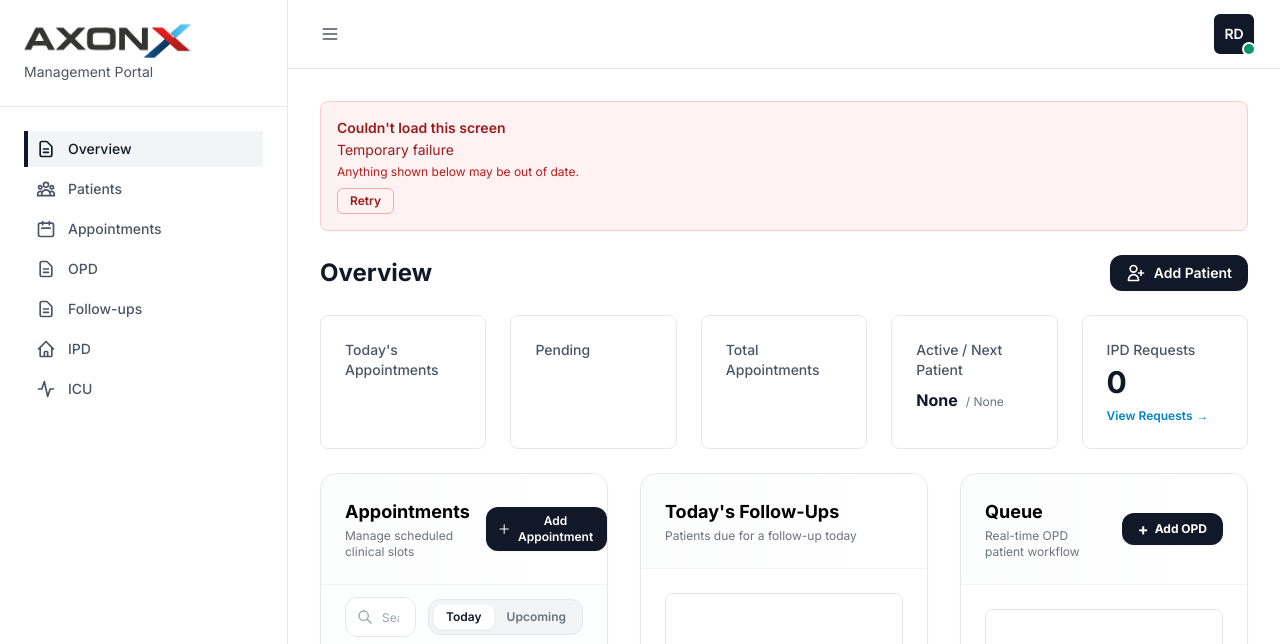
Test: ReceptionistDashboard — a failed load is not an empty desk › clears the error once the retry succeeds
Expected: the message is shown, [320,101,1248,231]
Click the button "Retry". click: point(366, 201)
box: [337,188,394,214]
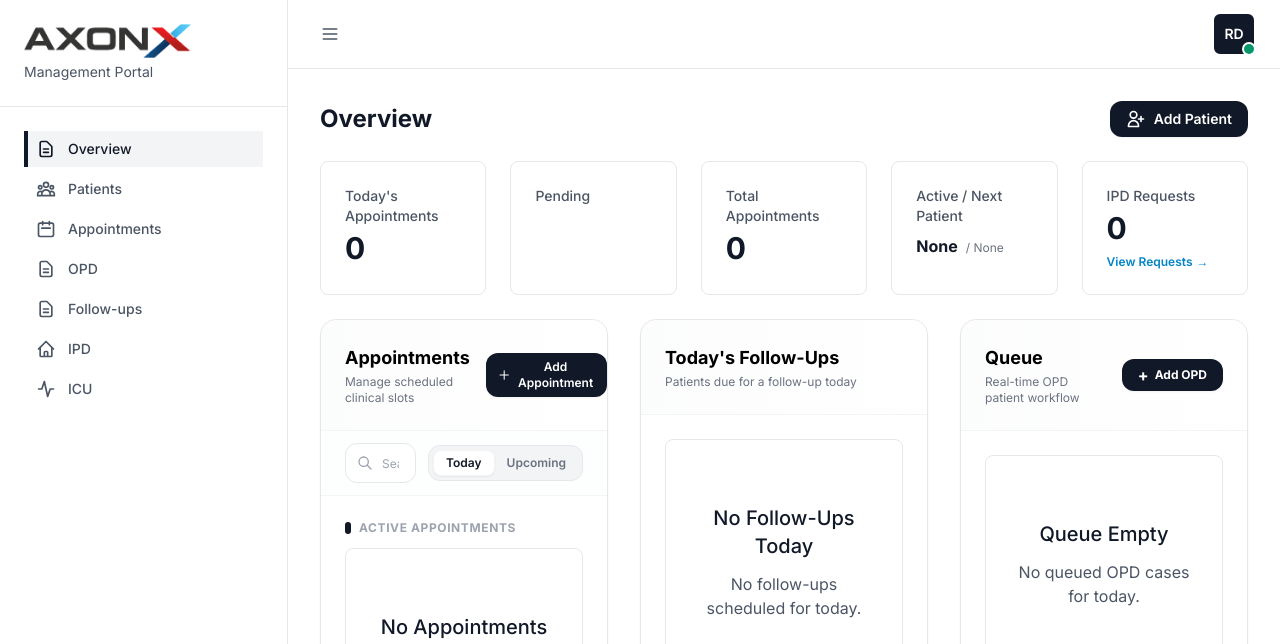
Result: the message is gone
